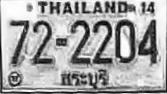0: (115, 19, 135, 64)
2: (30, 19, 52, 65), (70, 19, 89, 64), (93, 19, 112, 64)
4: (138, 18, 158, 64)
7: (8, 19, 30, 66)
SRI: (57, 68, 114, 91)
